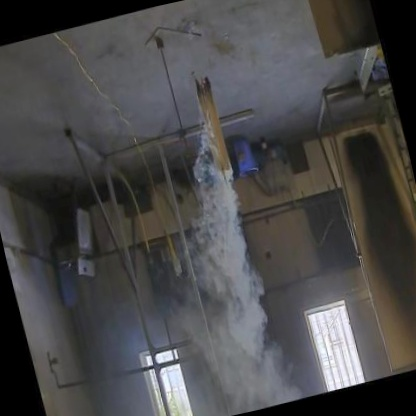smoke: (156, 116, 314, 416)
